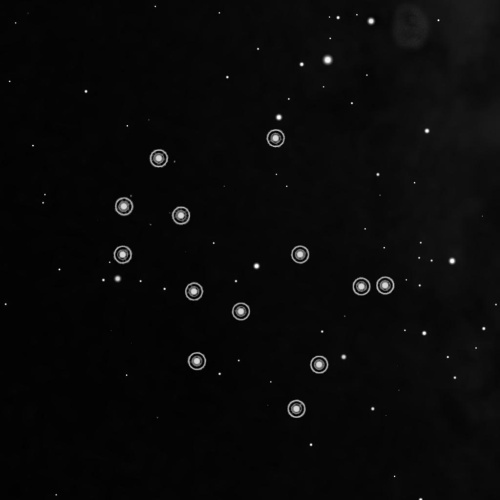gemini: (97, 121, 398, 425)
